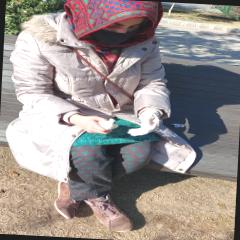gloved: (130, 110, 162, 139)
not-gloved: (70, 113, 112, 139)
